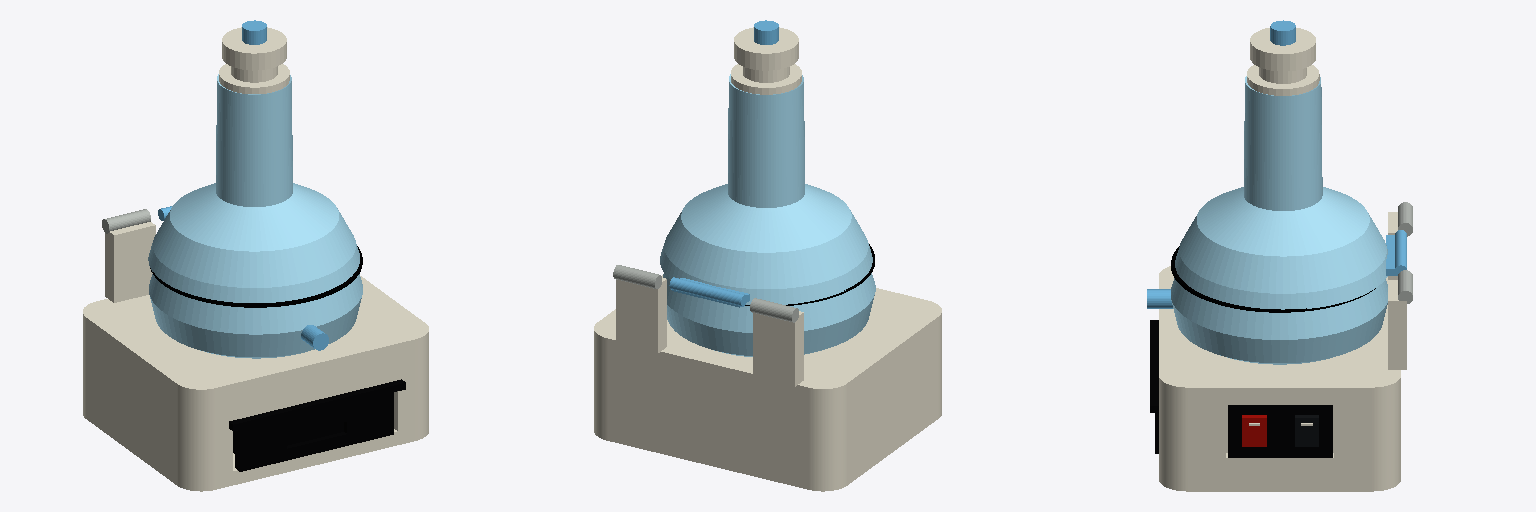
URDF robot description (family_juicer):
<robot name="family_juicer">
  <material name="warm_white_plastic">
    <color rgba="0.93 0.91 0.84 1" />
    </material>
  <material name="dark_shadow">
    <color rgba="0.035 0.035 0.04 1" />
    </material>
  <material name="soft_black">
    <color rgba="0.012 0.014 0.016 1" />
    </material>
  <material name="clear_smoke_polycarbonate">
    <color rgba="0.68 0.88 0.96 0.36" />
    </material>
  <material name="blue_tinted_clear_edge">
    <color rgba="0.46 0.74 0.9 0.5" />
    </material>
  <material name="brushed_stainless">
    <color rgba="0.72 0.74 0.72 1" />
    </material>
  <material name="bright_cutting_steel">
    <color rgba="0.9 0.92 0.9 1" />
    </material>
  <material name="muted_red_rocker">
    <color rgba="0.68 0.08 0.05 1" />
    </material>
  <material name="charcoal_rocker">
    <color rgba="0.1 0.11 0.12 1" />
    </material>
  <link name="base">
    <visual name="rounded_base_shell">
      <geometry>
        <mesh filename="assets/meshes/rounded_base_shell.obj" />
        </geometry>
      <material name="warm_white_plastic">
        <color rgba="0.93 0.91 0.84 1" />
        </material>
      </visual>
    <visual name="clear_lower_chamber">
      <geometry>
        <mesh filename="assets/meshes/clear_lower_chamber.obj" />
        </geometry>
      <material name="clear_smoke_polycarbonate">
        <color rgba="0.68 0.88 0.96 0.36" />
        </material>
      </visual>
    <visual name="lid_seat_gasket">
      <geometry>
        <mesh filename="assets/meshes/lid_seat_gasket.obj" />
        </geometry>
      <material name="soft_black">
        <color rgba="0.012 0.014 0.016 1" />
        </material>
      </visual>
    <visual name="drive_coupler">
      <origin xyz="0 0 0.192" rpy="0 0 0" />
      <geometry>
        <cylinder radius="0.037" length="0.026" />
        </geometry>
      <material name="brushed_stainless">
        <color rgba="0.72 0.74 0.72 1" />
        </material>
      </visual>
    <visual name="juice_spout">
      <origin xyz="0 -0.174 0.226" rpy="1.5708 0 0" />
      <geometry>
        <cylinder radius="0.015" length="0.07" />
        </geometry>
      <material name="blue_tinted_clear_edge">
        <color rgba="0.46 0.74 0.9 0.5" />
        </material>
      </visual>
    <visual name="drawer_shadow_lip">
      <origin xyz="0 -0.197 0.109" rpy="0 0 0" />
      <geometry>
        <box size="0.32 0.014 0.012" />
        </geometry>
      <material name="dark_shadow">
        <color rgba="0.035 0.035 0.04 1" />
        </material>
      </visual>
    <visual name="switch_mount_panel">
      <origin xyz="0.214 0.001 0.104" rpy="0 0 0" />
      <geometry>
        <box size="0.032 0.164 0.092" />
        </geometry>
      <material name="dark_shadow">
        <color rgba="0.035 0.035 0.04 1" />
        </material>
      </visual>
    <visual name="rear_hinge_upright_0">
      <origin xyz="-0.126 0.185 0.24" rpy="0 0 0" />
      <geometry>
        <box size="0.077 0.03 0.12" />
        </geometry>
      <material name="warm_white_plastic">
        <color rgba="0.93 0.91 0.84 1" />
        </material>
      </visual>
    <visual name="rear_hinge_knuckle_0">
      <origin xyz="-0.126 0.197 0.305" rpy="0 1.5708 0" />
      <geometry>
        <cylinder radius="0.012" length="0.077" />
        </geometry>
      <material name="brushed_stainless">
        <color rgba="0.72 0.74 0.72 1" />
        </material>
      </visual>
    <visual name="rear_hinge_upright_1">
      <origin xyz="0.126 0.185 0.24" rpy="0 0 0" />
      <geometry>
        <box size="0.077 0.03 0.12" />
        </geometry>
      <material name="warm_white_plastic">
        <color rgba="0.93 0.91 0.84 1" />
        </material>
      </visual>
    <visual name="rear_hinge_knuckle_1">
      <origin xyz="0.126 0.197 0.305" rpy="0 1.5708 0" />
      <geometry>
        <cylinder radius="0.012" length="0.077" />
        </geometry>
      <material name="brushed_stainless">
        <color rgba="0.72 0.74 0.72 1" />
        </material>
      </visual>
    <collision name="rounded_base_shell">
      <geometry>
        <mesh filename="assets/meshes/rounded_base_shell.obj" />
        </geometry>
      </collision>
    <collision name="clear_lower_chamber">
      <geometry>
        <mesh filename="assets/meshes/clear_lower_chamber.obj" />
        </geometry>
      </collision>
    <collision name="lid_seat_gasket">
      <geometry>
        <mesh filename="assets/meshes/lid_seat_gasket.obj" />
        </geometry>
      </collision>
    <collision name="drive_coupler">
      <origin xyz="0 0 0.192" rpy="0 0 0" />
      <geometry>
        <cylinder radius="0.037" length="0.026" />
        </geometry>
      </collision>
    <collision name="juice_spout">
      <origin xyz="0 -0.174 0.226" rpy="1.5708 0 0" />
      <geometry>
        <cylinder radius="0.015" length="0.07" />
        </geometry>
      </collision>
    <collision name="drawer_shadow_lip">
      <origin xyz="0 -0.197 0.109" rpy="0 0 0" />
      <geometry>
        <box size="0.32 0.014 0.012" />
        </geometry>
      </collision>
    <collision name="switch_mount_panel">
      <origin xyz="0.214 0.001 0.104" rpy="0 0 0" />
      <geometry>
        <box size="0.032 0.164 0.092" />
        </geometry>
      </collision>
    <collision name="rear_hinge_upright_0">
      <origin xyz="-0.126 0.185 0.24" rpy="0 0 0" />
      <geometry>
        <box size="0.077 0.03 0.12" />
        </geometry>
      </collision>
    <collision name="rear_hinge_knuckle_0">
      <origin xyz="-0.126 0.197 0.305" rpy="0 1.5708 0" />
      <geometry>
        <cylinder radius="0.012" length="0.077" />
        </geometry>
      </collision>
    <collision name="rear_hinge_upright_1">
      <origin xyz="0.126 0.185 0.24" rpy="0 0 0" />
      <geometry>
        <box size="0.077 0.03 0.12" />
        </geometry>
      </collision>
    <collision name="rear_hinge_knuckle_1">
      <origin xyz="0.126 0.197 0.305" rpy="0 1.5708 0" />
      <geometry>
        <cylinder radius="0.012" length="0.077" />
        </geometry>
      </collision>
    </link>
  <link name="drip_drawer">
    <visual name="drip_drawer_tray">
      <geometry>
        <mesh filename="assets/meshes/drip_drawer_tray.obj" />
        </geometry>
      <material name="dark_shadow">
        <color rgba="0.035 0.035 0.04 1" />
        </material>
      </visual>
    <collision name="drip_drawer_tray">
      <geometry>
        <mesh filename="assets/meshes/drip_drawer_tray.obj" />
        </geometry>
      </collision>
    </link>
  <link name="cutter_basket">
    <visual name="spinning_filter_basket">
      <geometry>
        <mesh filename="assets/meshes/spinning_filter_basket.obj" />
        </geometry>
      <material name="brushed_stainless">
        <color rgba="0.72 0.74 0.72 1" />
        </material>
      </visual>
    <visual name="basket_hub">
      <origin xyz="0 0 0.012" rpy="0 0 0" />
      <geometry>
        <cylinder radius="0.03" length="0.024" />
        </geometry>
      <material name="brushed_stainless">
        <color rgba="0.72 0.74 0.72 1" />
        </material>
      </visual>
    <visual name="cutter_blade_0">
      <origin xyz="0 0 0.025" rpy="0 0 0.31" />
      <geometry>
        <box size="0.122 0.012 0.006" />
        </geometry>
      <material name="bright_cutting_steel">
        <color rgba="0.9 0.92 0.9 1" />
        </material>
      </visual>
    <visual name="cutter_blade_1">
      <origin xyz="0 0 0.026" rpy="0 0 2.4" />
      <geometry>
        <box size="0.122 0.012 0.006" />
        </geometry>
      <material name="bright_cutting_steel">
        <color rgba="0.9 0.92 0.9 1" />
        </material>
      </visual>
    <collision name="spinning_filter_basket">
      <geometry>
        <mesh filename="assets/meshes/spinning_filter_basket.obj" />
        </geometry>
      </collision>
    <collision name="basket_hub">
      <origin xyz="0 0 0.012" rpy="0 0 0" />
      <geometry>
        <cylinder radius="0.03" length="0.024" />
        </geometry>
      </collision>
    <collision name="cutter_blade_0">
      <origin xyz="0 0 0.025" rpy="0 0 0.31" />
      <geometry>
        <box size="0.122 0.012 0.006" />
        </geometry>
      </collision>
    <collision name="cutter_blade_1">
      <origin xyz="0 0 0.026" rpy="0 0 2.4" />
      <geometry>
        <box size="0.122 0.012 0.006" />
        </geometry>
      </collision>
    </link>
  <link name="lid">
    <visual name="clear_lid_chute">
      <geometry>
        <mesh filename="assets/meshes/clear_lid_chute.obj" />
        </geometry>
      <material name="clear_smoke_polycarbonate">
        <color rgba="0.68 0.88 0.96 0.36" />
        </material>
      </visual>
    <visual name="rear_hinge_leaf">
      <origin xyz="0 -0.008 -0.004" rpy="0 0 0" />
      <geometry>
        <box size="0.125 0.03 0.012" />
        </geometry>
      <material name="blue_tinted_clear_edge">
        <color rgba="0.46 0.74 0.9 0.5" />
        </material>
      </visual>
    <visual name="rear_hinge_barrel">
      <origin xyz="0 0 0" rpy="0 1.5708 0" />
      <geometry>
        <cylinder radius="0.01" length="0.132" />
        </geometry>
      <material name="blue_tinted_clear_edge">
        <color rgba="0.46 0.74 0.9 0.5" />
        </material>
      </visual>
    <collision name="clear_lid_chute">
      <geometry>
        <mesh filename="assets/meshes/clear_lid_chute.obj" />
        </geometry>
      </collision>
    <collision name="rear_hinge_leaf">
      <origin xyz="0 -0.008 -0.004" rpy="0 0 0" />
      <geometry>
        <box size="0.125 0.03 0.012" />
        </geometry>
      </collision>
    <collision name="rear_hinge_barrel">
      <origin xyz="0 0 0" rpy="0 1.5708 0" />
      <geometry>
        <cylinder radius="0.01" length="0.132" />
        </geometry>
      </collision>
    </link>
  <link name="feed_pusher">
    <visual name="pusher_stem">
      <origin xyz="0 0 -0.07" rpy="0 0 0" />
      <geometry>
        <cylinder radius="0.038" length="0.22" />
        </geometry>
      <material name="warm_white_plastic">
        <color rgba="0.93 0.91 0.84 1" />
        </material>
      </visual>
    <visual name="chute_stop_flange">
      <origin xyz="0 0 0.004" rpy="0 0 0" />
      <geometry>
        <cylinder radius="0.057" length="0.014" />
        </geometry>
      <material name="warm_white_plastic">
        <color rgba="0.93 0.91 0.84 1" />
        </material>
      </visual>
    <visual name="pusher_cap">
      <origin xyz="0 0 0.054" rpy="0 0 0" />
      <geometry>
        <cylinder radius="0.052" length="0.03" />
        </geometry>
      <material name="warm_white_plastic">
        <color rgba="0.93 0.91 0.84 1" />
        </material>
      </visual>
    <visual name="thumb_dimple">
      <origin xyz="0 0 0.081" rpy="0 0 0" />
      <geometry>
        <cylinder radius="0.02" length="0.026" />
        </geometry>
      <material name="blue_tinted_clear_edge">
        <color rgba="0.46 0.74 0.9 0.5" />
        </material>
      </visual>
    <collision name="pusher_stem">
      <origin xyz="0 0 -0.07" rpy="0 0 0" />
      <geometry>
        <cylinder radius="0.038" length="0.22" />
        </geometry>
      </collision>
    <collision name="chute_stop_flange">
      <origin xyz="0 0 0.004" rpy="0 0 0" />
      <geometry>
        <cylinder radius="0.057" length="0.014" />
        </geometry>
      </collision>
    <collision name="pusher_cap">
      <origin xyz="0 0 0.054" rpy="0 0 0" />
      <geometry>
        <cylinder radius="0.052" length="0.03" />
        </geometry>
      </collision>
    <collision name="thumb_dimple">
      <origin xyz="0 0 0.081" rpy="0 0 0" />
      <geometry>
        <cylinder radius="0.02" length="0.026" />
        </geometry>
      </collision>
    </link>
  <link name="rocker_switch_0">
    <visual name="rocker_cap">
      <origin xyz="0.007 0 0" rpy="0 0 0" />
      <geometry>
        <box size="0.014 0.038 0.05" />
        </geometry>
      <material name="muted_red_rocker">
        <color rgba="0.68 0.08 0.05 1" />
        </material>
      </visual>
    <visual name="indicator_mark">
      <origin xyz="0.015 0 0.015" rpy="0 0 0" />
      <geometry>
        <box size="0.004 0.018 0.004" />
        </geometry>
      <material name="warm_white_plastic">
        <color rgba="0.93 0.91 0.84 1" />
        </material>
      </visual>
    <collision name="rocker_cap">
      <origin xyz="0.007 0 0" rpy="0 0 0" />
      <geometry>
        <box size="0.014 0.038 0.05" />
        </geometry>
      </collision>
    <collision name="indicator_mark">
      <origin xyz="0.015 0 0.015" rpy="0 0 0" />
      <geometry>
        <box size="0.004 0.018 0.004" />
        </geometry>
      </collision>
    </link>
  <link name="rocker_switch_1">
    <visual name="rocker_cap">
      <origin xyz="0.007 0 0" rpy="0 0 0" />
      <geometry>
        <box size="0.014 0.038 0.05" />
        </geometry>
      <material name="charcoal_rocker">
        <color rgba="0.1 0.11 0.12 1" />
        </material>
      </visual>
    <visual name="indicator_mark">
      <origin xyz="0.015 0 0.015" rpy="0 0 0" />
      <geometry>
        <box size="0.004 0.018 0.004" />
        </geometry>
      <material name="warm_white_plastic">
        <color rgba="0.93 0.91 0.84 1" />
        </material>
      </visual>
    <collision name="rocker_cap">
      <origin xyz="0.007 0 0" rpy="0 0 0" />
      <geometry>
        <box size="0.014 0.038 0.05" />
        </geometry>
      </collision>
    <collision name="indicator_mark">
      <origin xyz="0.015 0 0.015" rpy="0 0 0" />
      <geometry>
        <box size="0.004 0.018 0.004" />
        </geometry>
      </collision>
    </link>
  <joint name="base_to_rocker_0" type="revolute">
    <origin xyz="0.23 -0.04 0.108" rpy="0 0 0" />
    <parent link="base" />
    <child link="rocker_switch_0" />
    <axis xyz="0 1 0" />
    <limit effort="0.4" velocity="5" lower="-0.3" upper="0.3" />
    </joint>
  <joint name="base_to_rocker_1" type="revolute">
    <origin xyz="0.23 0.042 0.108" rpy="0 0 0" />
    <parent link="base" />
    <child link="rocker_switch_1" />
    <axis xyz="0 1 0" />
    <limit effort="0.4" velocity="5" lower="-0.3" upper="0.3" />
    </joint>
  <joint name="base_to_drip_drawer" type="prismatic">
    <origin xyz="0 -0.094 0.056" rpy="0 0 0" />
    <parent link="base" />
    <child link="drip_drawer" />
    <axis xyz="0 -1 0" />
    <limit effort="30" velocity="0.35" lower="0" upper="0.14" />
    </joint>
  <joint name="base_to_cutter_basket" type="continuous">
    <origin xyz="0 0 0.205" rpy="0 0 0" />
    <parent link="base" />
    <child link="cutter_basket" />
    <axis xyz="0 0 1" />
    <limit effort="2" velocity="80" />
    </joint>
  <joint name="base_to_lid" type="revolute">
    <origin xyz="0 0.19 0.305" rpy="0 0 0" />
    <parent link="base" />
    <child link="lid" />
    <axis xyz="-1 0 0" />
    <limit effort="6" velocity="2" lower="0" upper="1.25" />
    </joint>
  <joint name="lid_to_feed_pusher" type="prismatic">
    <origin xyz="0 -0.185 0.3" rpy="0 0 0" />
    <parent link="lid" />
    <child link="feed_pusher" />
    <axis xyz="0 0 -1" />
    <limit effort="14" velocity="0.28" lower="0" upper="0.12" />
    </joint>
  </robot>

--- What the picture shows (computed from the rendered views, not written in the file) ---
3 views of the same robot in one strip: view 1: azimuth 30°, elevation 25°; view 2: azimuth 150°, elevation 25°; view 3: azimuth 270°, elevation 25° (orthographic).
Model family_juicer with 7 links and 6 joints (3 revolute, 1 continuous, 2 prismatic), rooted at base, posed all joints at 0.
Visible links, largest first — view 1: base, lid, drip_drawer, feed_pusher; view 2: base, lid, feed_pusher; view 3: base, lid, feed_pusher, rocker_switch_0, rocker_switch_1.
Link boxes in pixels (box(x1,y1,x2,y2)): base: box(83, 209, 428, 491); lid: box(148, 74, 359, 302); drip_drawer: box(233, 392, 393, 471); feed_pusher: box(219, 20, 289, 93); base: box(594, 244, 941, 491); lid: box(660, 74, 872, 307); feed_pusher: box(731, 20, 801, 94); base: box(1147, 202, 1412, 491); lid: box(1175, 76, 1406, 309); feed_pusher: box(1247, 20, 1319, 95); rocker_switch_0: box(1242, 415, 1266, 446); rocker_switch_1: box(1295, 415, 1318, 446).
Size in the robot's own frame: 0.477 by 0.418 by 0.699 metres.
Meshes: 6 distinct files referenced, 6 mesh visuals loaded (6 OBJ).
